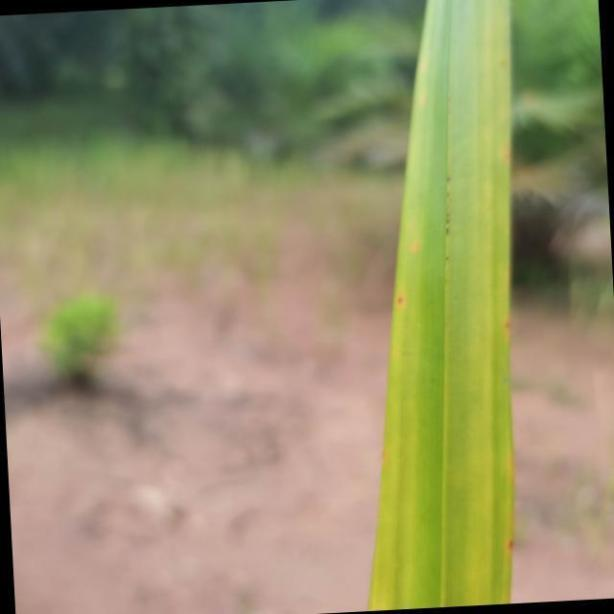nitrogen: (368, 0, 515, 614)
